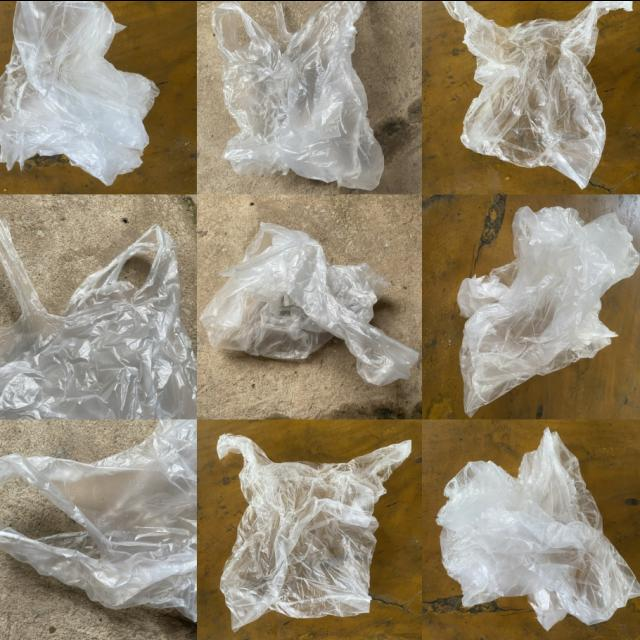plastik: (0, 217, 196, 618), (437, 427, 640, 629), (0, 419, 196, 619), (217, 434, 411, 630), (458, 206, 639, 415), (442, 0, 633, 187), (201, 222, 419, 384), (212, 0, 383, 189), (0, 0, 159, 185)
